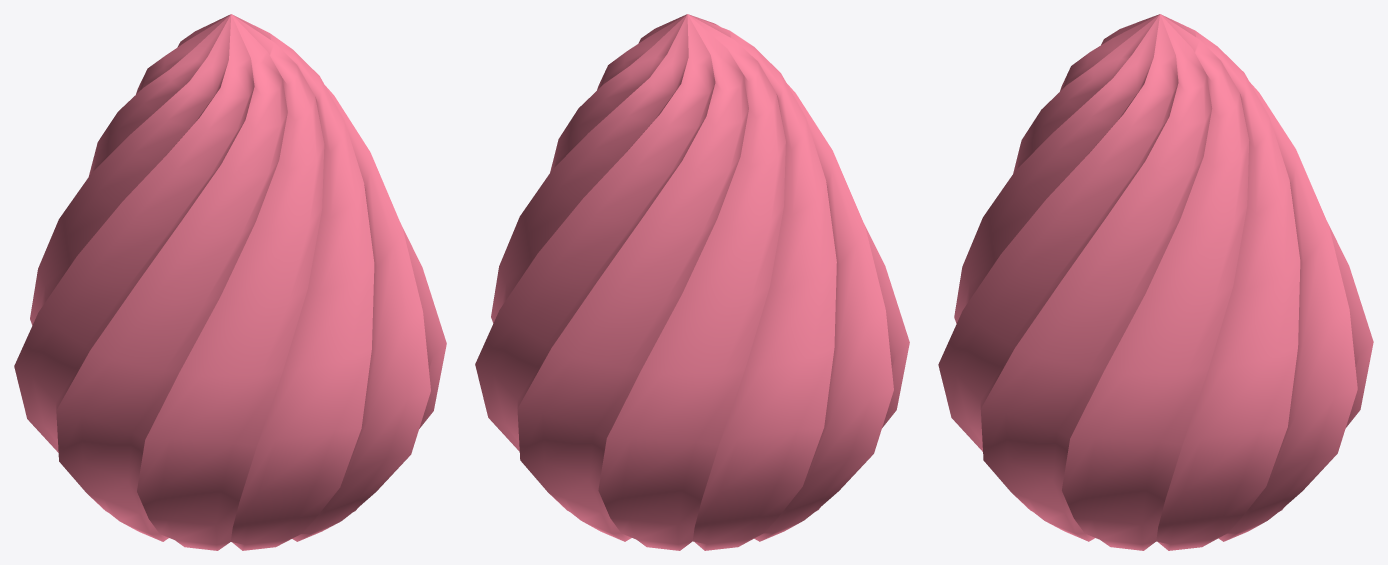
The model's file is Ice Cream Spiral A Pink.fbx.
3 views of the same model, side by side, from view 1: azimuth 30°, elevation 25°; view 2: azimuth 150°, elevation 25°; view 3: azimuth 270°, elevation 25° (orthographic).
Visible parts, largest first — view 1: Ice Cream Spiral A Pink; view 2: Ice Cream Spiral A Pink; view 3: Ice Cream Spiral A Pink.
Boxes of the visible parts, x1=… form: Ice Cream Spiral A Pink: x1=14, y1=14, x2=446, y2=550; Ice Cream Spiral A Pink: x1=475, y1=14, x2=909, y2=550; Ice Cream Spiral A Pink: x1=938, y1=14, x2=1373, y2=550.
Size of the model in its own units: 0.4046 by 0.503 by 0.4046.
